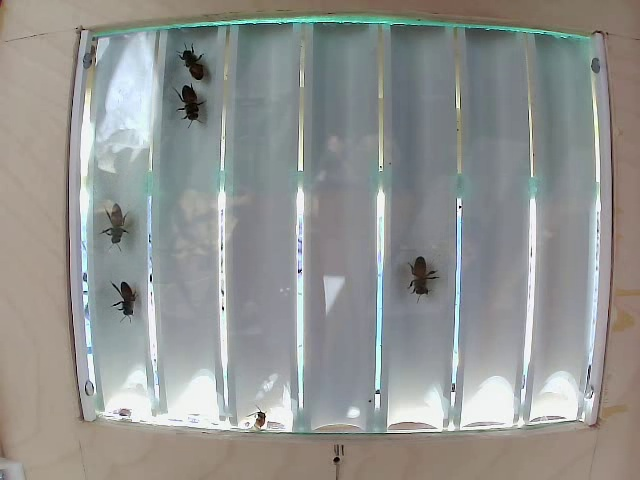bee: (394, 248, 444, 309), (169, 74, 213, 132), (105, 279, 152, 323), (98, 195, 138, 241), (183, 29, 219, 76)
